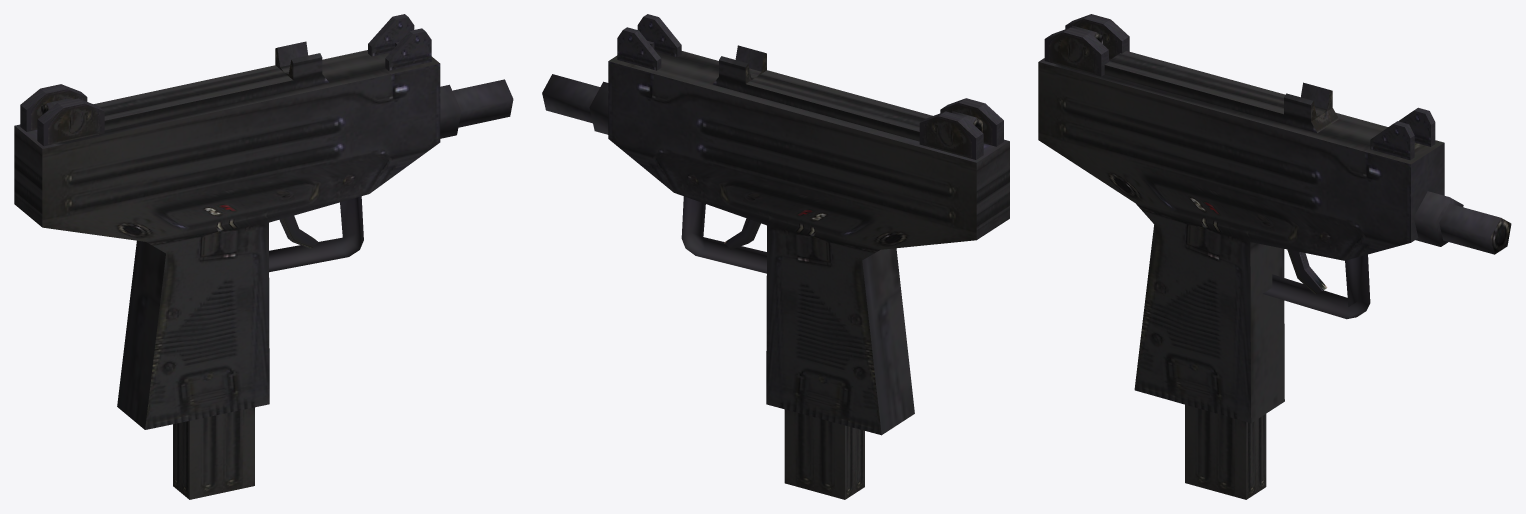
File: Uzi_fbx.fbx
The picture shows the model from 3 angles, left to right: view 1: azimuth 30°, elevation 25°; view 2: azimuth 150°, elevation 25°; view 3: azimuth 330°, elevation 25°; orthographic projection.
Visible parts, largest first — view 1: Body, Slide, Mag, Trigger; view 2: Body, Slide, Mag, Trigger; view 3: Body, Slide, Mag, Trigger.
Part boxes in pixels (x1=…): Body: x1=14, y1=14, x2=513, y2=429; Slide: x1=94, y1=41, x2=328, y2=130; Mag: x1=173, y1=407, x2=254, y2=499; Trigger: x1=279, y1=215, x2=318, y2=249; Body: x1=542, y1=14, x2=1009, y2=435; Slide: x1=712, y1=45, x2=932, y2=141; Mag: x1=784, y1=409, x2=864, y2=499; Trigger: x1=724, y1=218, x2=760, y2=249; Body: x1=1038, y1=14, x2=1511, y2=423; Slide: x1=1104, y1=51, x2=1338, y2=132; Mag: x1=1185, y1=404, x2=1266, y2=499; Trigger: x1=1287, y1=249, x2=1327, y2=294.
Bounding box in the file's own units: 498 × 431 × 79.77.
1 material, 1 textured.
